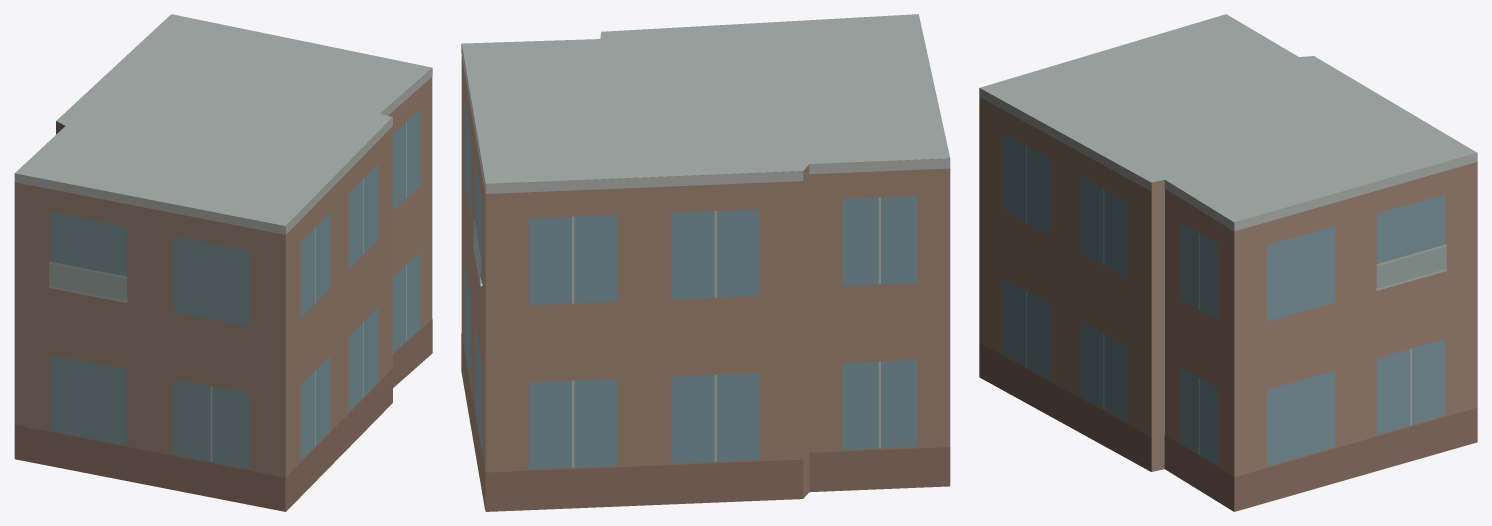
The model's file is survey-upis-32625349.glb.
The picture shows the model from 3 angles, left to right: view 1: azimuth 30°, elevation 25°; view 2: azimuth 150°, elevation 25°; view 3: azimuth 270°, elevation 25°; orthographic projection. The views are drawn at different scales.
Visible parts, largest first — view 1: survey-upis-32625349.tmp; view 2: survey-upis-32625349.tmp; view 3: survey-upis-32625349.tmp.
Part boxes in pixels (x1,y1,x2,y2): survey-upis-32625349.tmp: (14, 14, 432, 511); survey-upis-32625349.tmp: (461, 14, 950, 511); survey-upis-32625349.tmp: (979, 14, 1477, 511).
Bounding box in the file's own units: 12.13 × 7.85 × 12.25.
